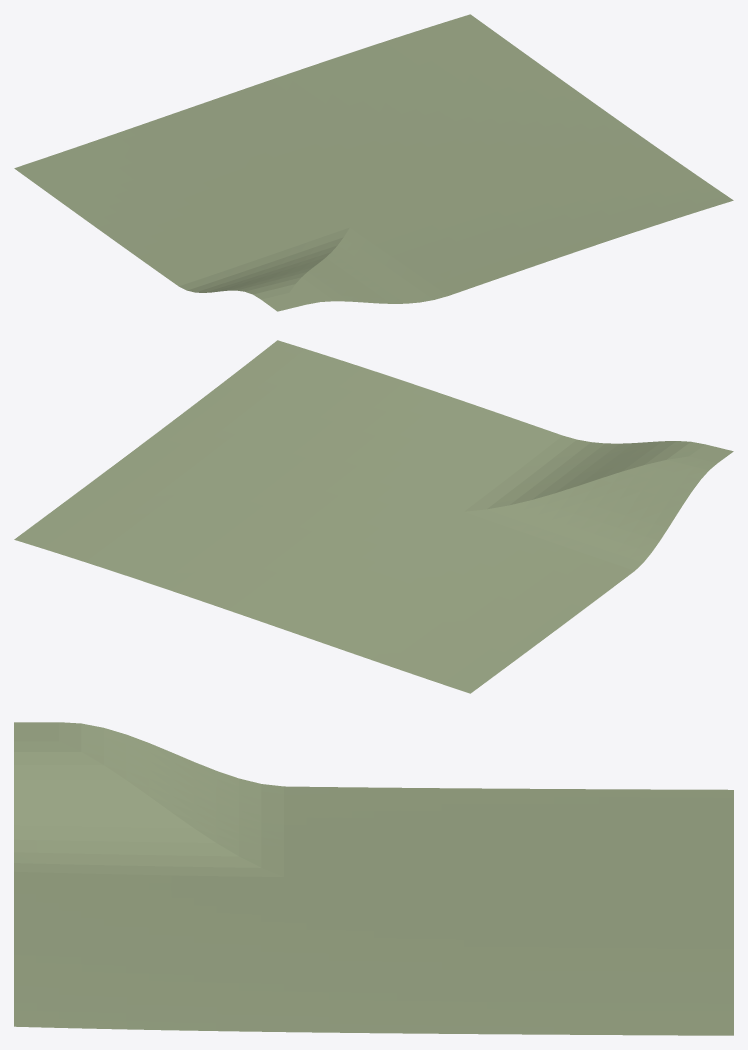
File: valley-14-11.glb
The picture shows the model from 3 angles, top to bottom: view 1: azimuth 30°, elevation 25°; view 2: azimuth 150°, elevation 25°; view 3: azimuth 270°, elevation 25°; orthographic projection. The views are drawn at different scales.
Parts seen in each view (by area): view 1: valley-14-11; view 2: valley-14-11; view 3: valley-14-11.
Boxes of the visible parts, <box> form: valley-14-11: <box>14,14,733,311</box>; valley-14-11: <box>14,340,733,693</box>; valley-14-11: <box>14,722,733,1035</box>.
Bounding box in the file's own units: 256 × 26.55 × 256.
